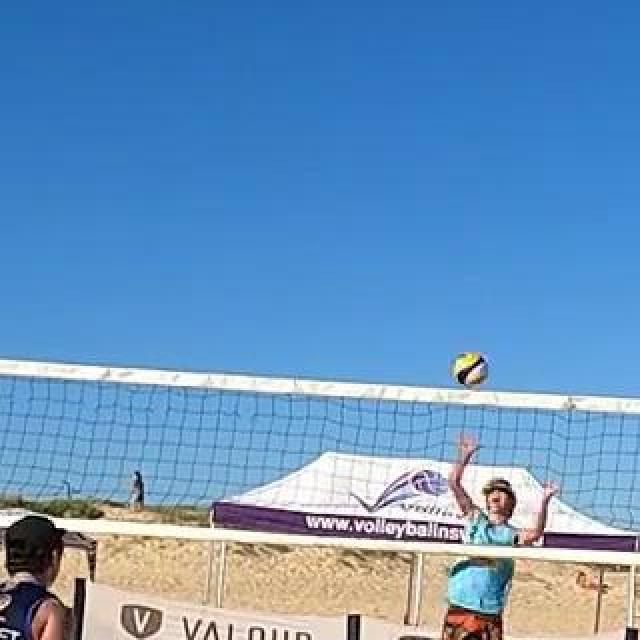volleyball: (453, 352, 487, 384)
